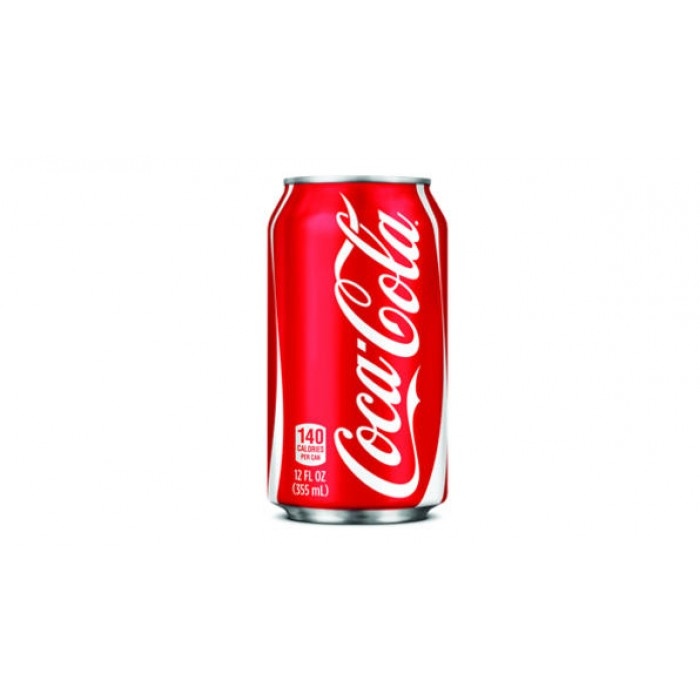can: (258, 169, 474, 535)
